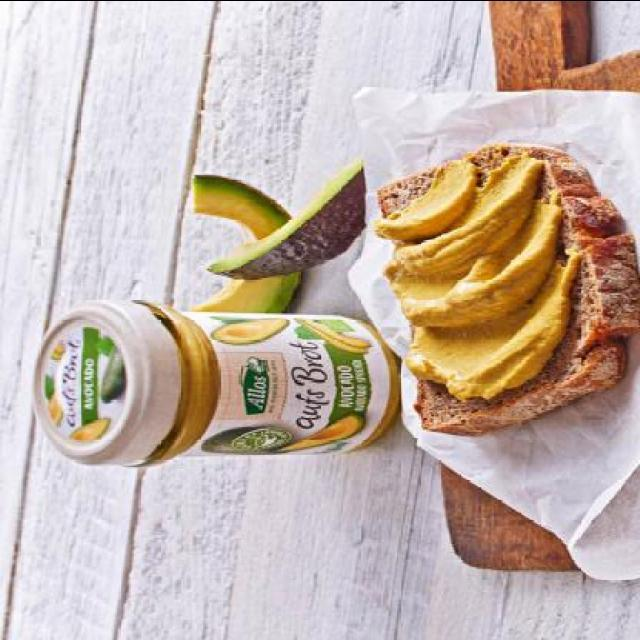Spread: (379, 160, 570, 398)
